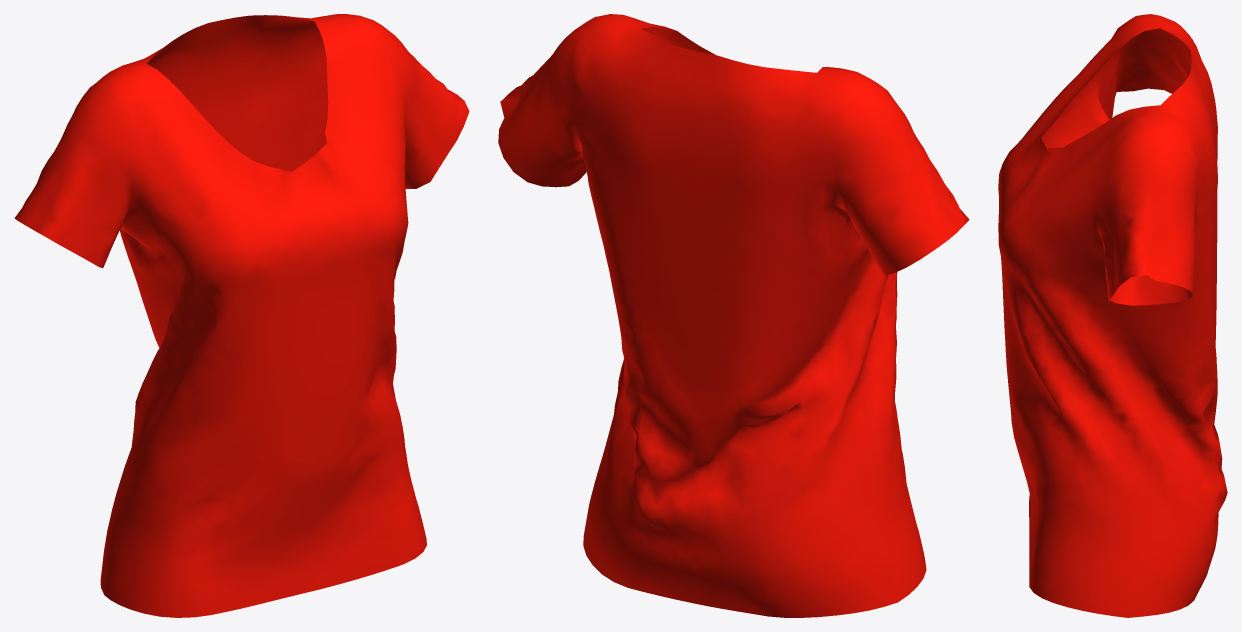
The model's file is female tshirt4.glb.
3 renders of one model, left to right at view 1: azimuth 30°, elevation 25°; view 2: azimuth 150°, elevation 25°; view 3: azimuth 270°, elevation 25°, orthographic. The views are drawn at different scales.
Visible parts, largest first — view 1: Simple women .t shirt; view 2: Simple women .t shirt; view 3: Simple women .t shirt.
Part boxes in pixels (<box>): Simple women .t shirt: <box>14,14,469,617</box>; Simple women .t shirt: <box>498,14,969,617</box>; Simple women .t shirt: <box>998,14,1227,617</box>.
Bounding box in the file's own units: 0.5824 × 0.6698 × 0.2784.
